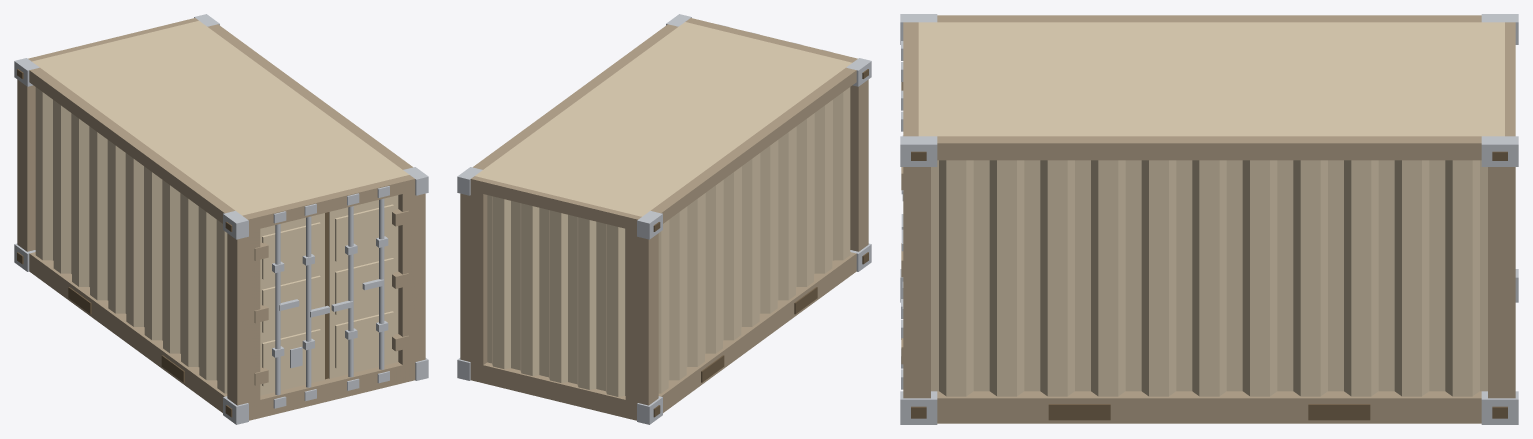
File: building.container.glb
3 views of the same model, side by side, from view 1: azimuth 30°, elevation 25°; view 2: azimuth 150°, elevation 25°; view 3: azimuth 270°, elevation 25° (orthographic). The views are drawn at different scales.
Parts seen in each view (by area): view 1: Paint, PaintDark, Metal, Door; view 2: Paint, PaintDark, Metal, Door; view 3: Paint, PaintDark, Metal, Door.
Part boxes in pixels (<box>): Paint: <box>32,21,409,395</box>; PaintDark: <box>17,18,425,420</box>; Metal: <box>14,14,428,424</box>; Door: <box>17,69,328,417</box>; Paint: <box>475,22,852,396</box>; PaintDark: <box>460,18,868,420</box>; Metal: <box>457,14,871,424</box>; Door: <box>653,69,868,417</box>; Paint: <box>918,22,1504,396</box>; PaintDark: <box>901,15,1515,423</box>; Metal: <box>900,14,1518,424</box>; Door: <box>911,151,1507,420</box>.
Bounding box in the file's own units: 1.01 × 1 × 2.
